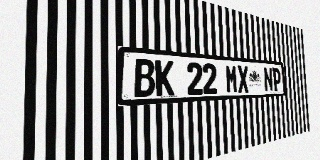2: (187, 62, 203, 95), (202, 63, 217, 94)
B: (134, 58, 155, 97)
K: (155, 60, 174, 96)
M: (225, 64, 238, 93)
N: (263, 67, 273, 92)
P: (272, 68, 281, 91)
X: (237, 65, 249, 93)
